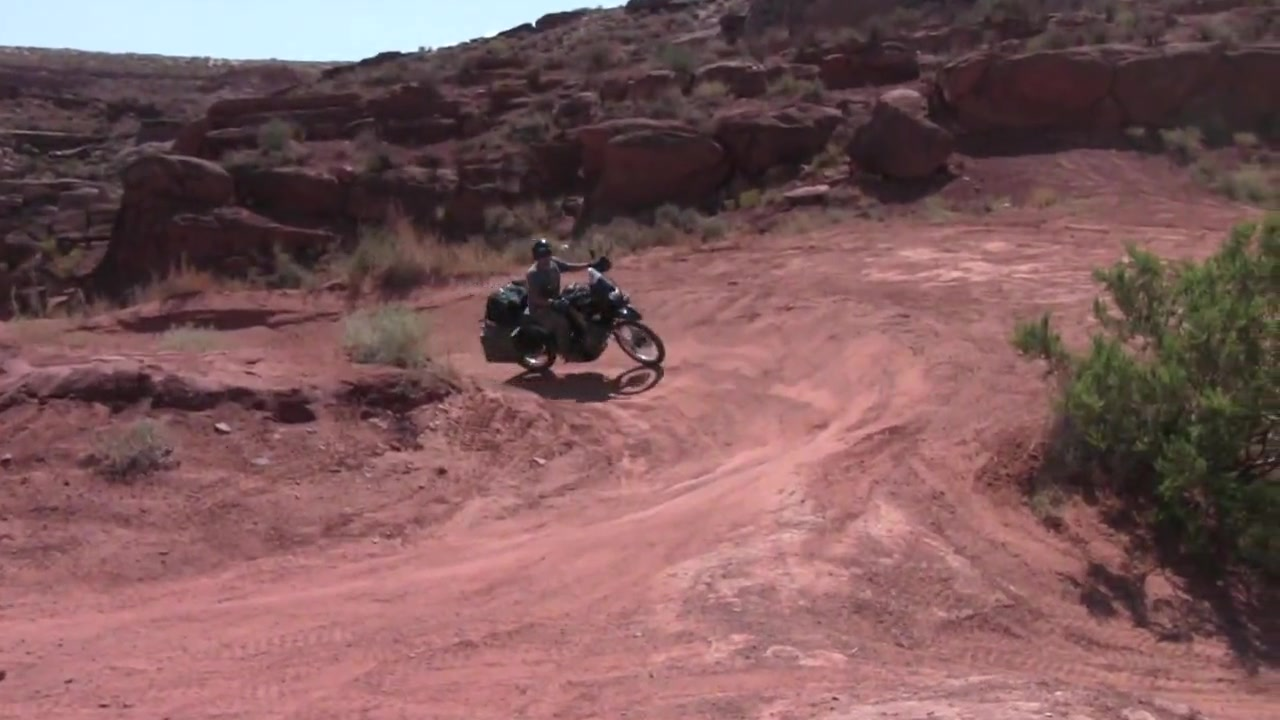motorbike: (478, 254, 671, 373)
